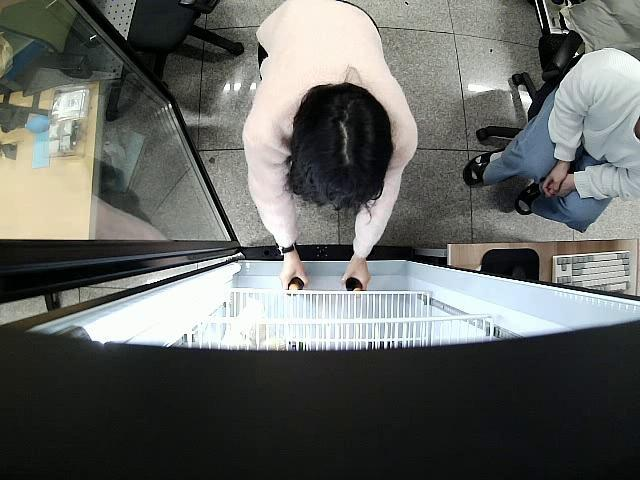17_vita500: (284, 277, 306, 298), (345, 276, 364, 300)
